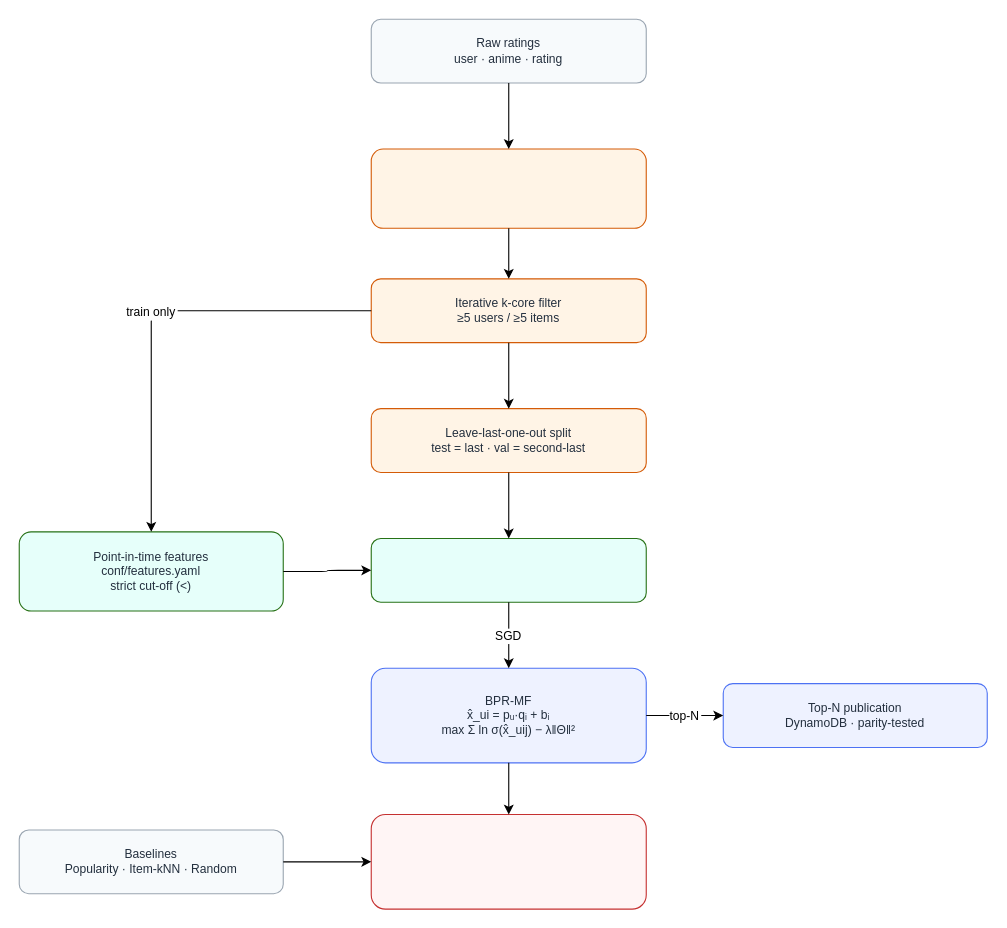
Image size: 1007x928. Some labels were removed from this diagram. Here are the shapes that lost their labels. From the top down, the centre of each, then its label:
At pixel 508 188: "Implicit feedback rating ≥ 6 or = −1 → positive low ratings dropped".
At pixel 508 569: "Triplet sampler (u, i, j) with j ∉ positives(u)".
At pixel 508 861: "Evaluation NDCG@10 · Recall@10 · MRR · Coverage history excluded from candidates".
